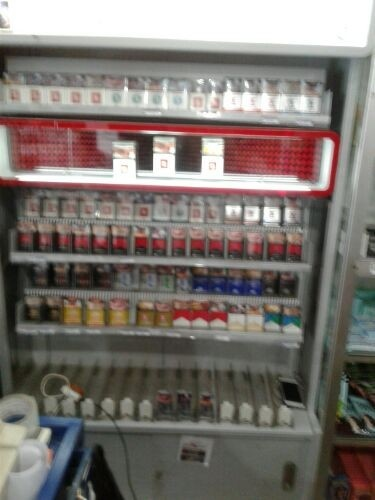A Mild 12: (188, 92, 206, 111), (207, 92, 221, 111), (190, 206, 203, 222)
A Mild 16: (202, 155, 223, 178), (153, 154, 174, 176), (45, 86, 67, 105), (114, 160, 136, 179), (2, 86, 25, 104), (24, 86, 47, 104), (66, 87, 86, 106), (86, 88, 104, 106), (80, 201, 97, 219), (98, 203, 116, 220), (134, 203, 152, 220), (204, 206, 222, 223), (61, 201, 78, 218), (117, 202, 133, 220), (44, 200, 59, 218), (28, 200, 41, 216)
A Mild Menthol 16: (126, 89, 147, 108), (145, 91, 167, 109), (168, 92, 188, 110), (105, 89, 126, 106), (171, 205, 188, 222), (154, 204, 170, 221)
Avolution Menthol 20: (299, 96, 321, 115), (281, 94, 300, 113)
Avolution Red 20: (223, 92, 242, 111), (244, 92, 261, 111), (263, 93, 280, 112)
Dji Sam Soe 16: (63, 307, 83, 324), (84, 309, 104, 326), (109, 310, 128, 327)
Dji Sam Soe Super Premium 12: (44, 305, 64, 322), (24, 304, 43, 321)
Magnum Filter 12: (278, 280, 295, 297), (262, 280, 277, 296)
Magnum Mild 20: (210, 277, 228, 295), (191, 276, 208, 294), (228, 278, 245, 296), (245, 279, 260, 296)
Marlboro Filter Black 12: (151, 237, 167, 257), (134, 236, 147, 256), (172, 238, 185, 257), (192, 239, 205, 257)
Marlboro Filter Black 16: (287, 244, 306, 264), (268, 244, 286, 262), (208, 240, 225, 258), (227, 241, 244, 259), (246, 243, 264, 260)
Marlboro Filter Black 20: (72, 235, 92, 254), (111, 236, 131, 255), (92, 236, 112, 254), (54, 234, 72, 253), (17, 233, 35, 250), (36, 234, 53, 252)
Marlboro Ice Burst 20: (281, 315, 301, 334), (263, 313, 281, 333)
Marlboro Light 20: (227, 313, 246, 331), (247, 314, 263, 331)
Marlboro Red 20: (209, 310, 228, 329), (190, 310, 208, 328), (172, 310, 189, 327)
Sampoerna Hijau 12: (137, 310, 154, 327), (156, 310, 172, 327)
U Mild 16: (113, 273, 132, 290), (141, 273, 158, 291), (176, 277, 191, 294)
U Mild Bold 16: (92, 273, 111, 290), (51, 272, 70, 288), (73, 272, 92, 288), (34, 272, 51, 288)
U Mild Cool 16: (158, 273, 173, 292)
